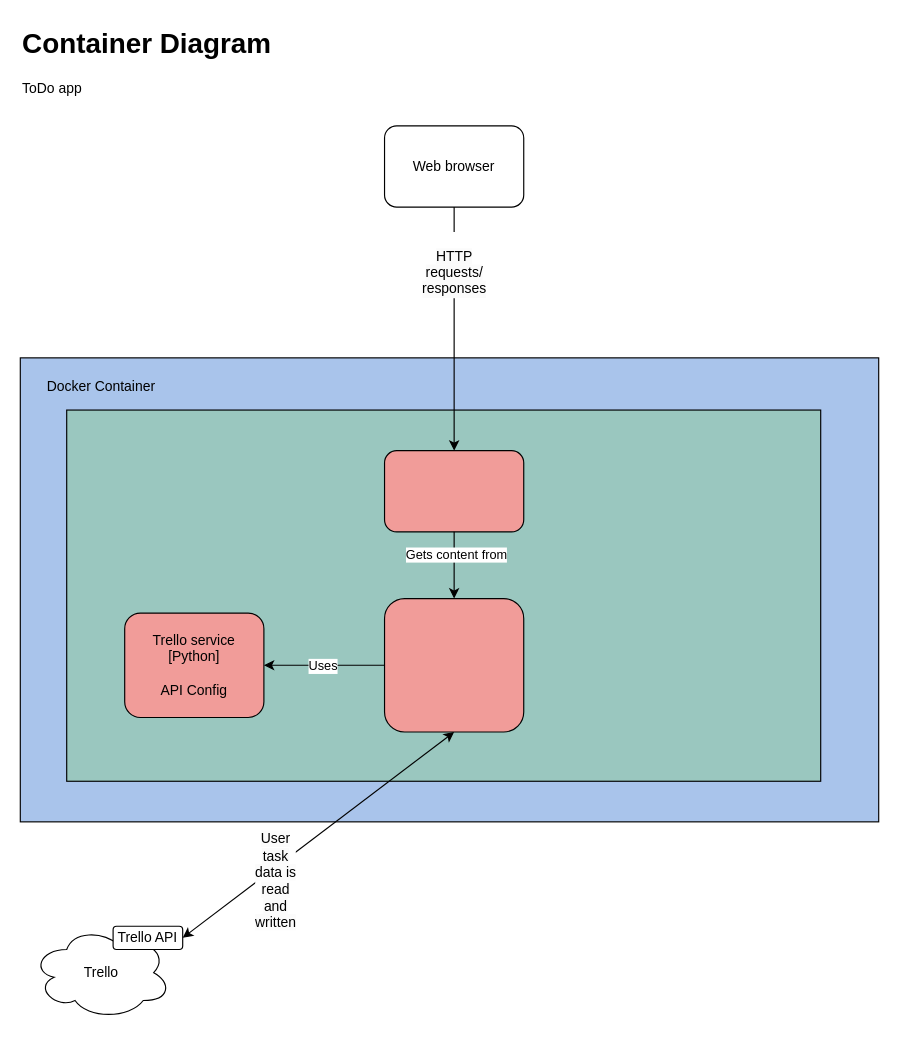
Image size: 899x1039. Some labels were removed from this diagram. The shapes that lost their labels are listed below. From the top down, each one's box as (x1, y1, x2, y2) in pixels, then its label:
(383, 449, 524, 532): Web server [Flask]
(383, 597, 524, 732): ToDo App [Python]
